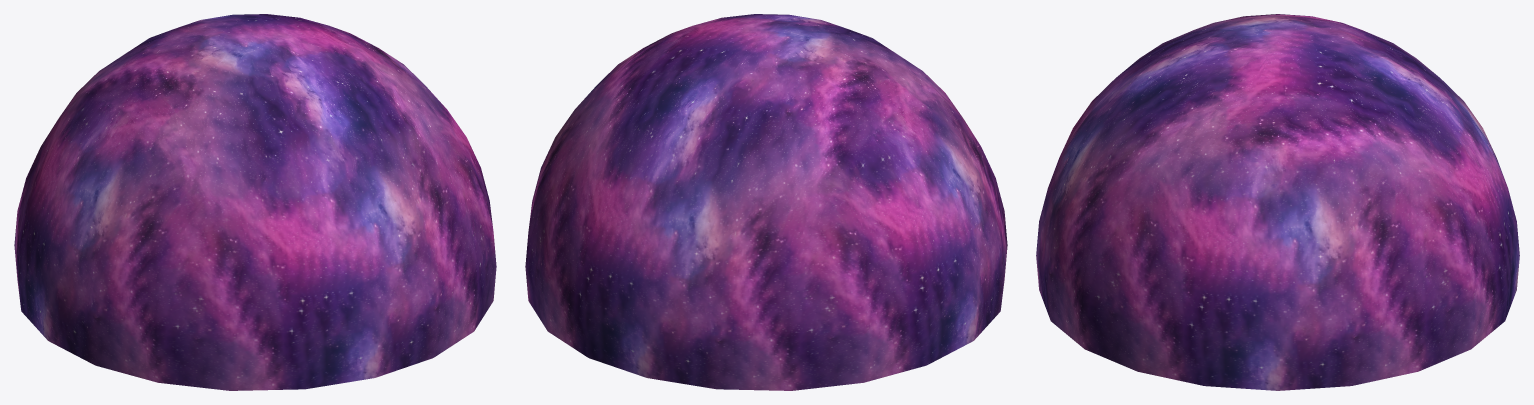
File: Arena.fbx
3 renders of one model, left to right at view 1: azimuth 30°, elevation 25°; view 2: azimuth 150°, elevation 25°; view 3: azimuth 270°, elevation 25°, orthographic.
Parts seen in each view (by area): view 1: AS; view 2: AS; view 3: AS.
Boxes of the visible parts, x1,y1,x2,y2 form: AS: (14, 14, 496, 390); AS: (525, 14, 1007, 390); AS: (1036, 14, 1519, 390).
Bounding box in the file's own units: 10172 × 5882 × 10172.
